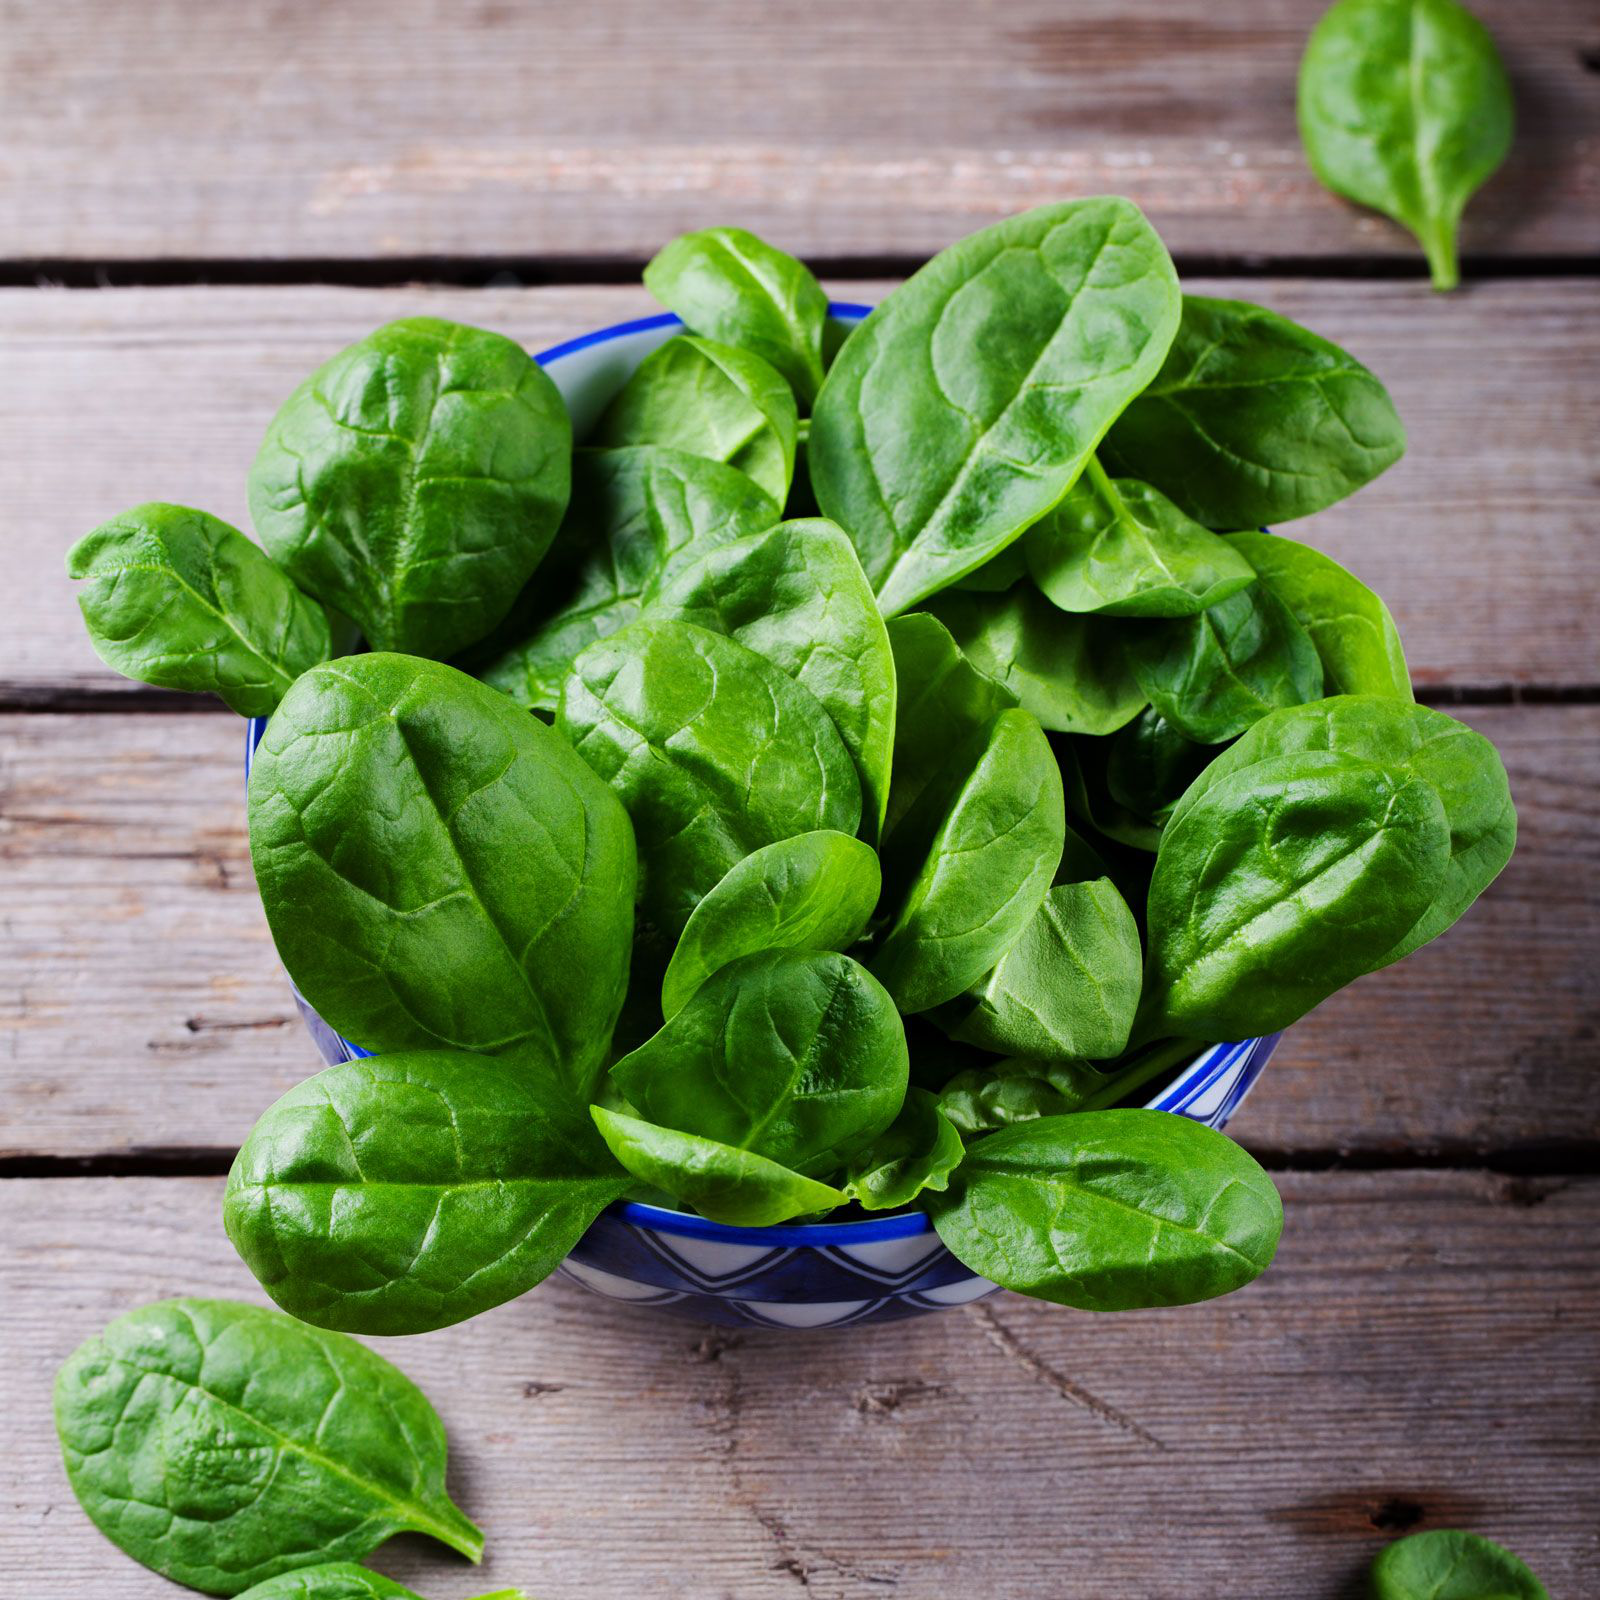Bayam: (67, 268, 1559, 1411)
